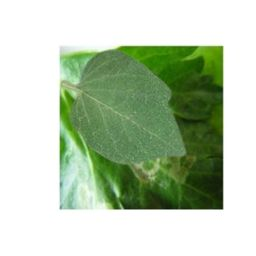liriomyza: (130, 153, 197, 188)
